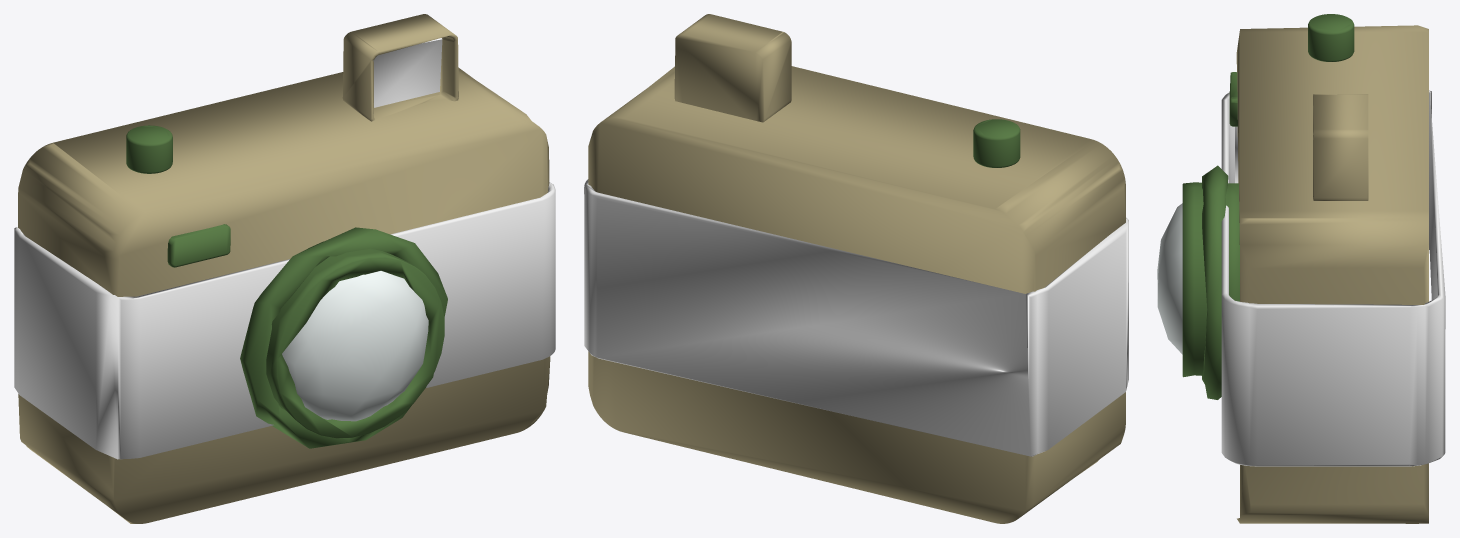
File: Camera.glb
3 renders of one model, left to right at view 1: azimuth 30°, elevation 25°; view 2: azimuth 150°, elevation 25°; view 3: azimuth 270°, elevation 25°, orthographic.
Parts seen in each view (by area): view 1: 3d66-Editable_Poly-21149881-003, 3d66-Editable_Poly-21149881-002, 3d66-Editable_Poly-21149881-001; view 2: 3d66-Editable_Poly-21149881-003, 3d66-Editable_Poly-21149881-002; view 3: 3d66-Editable_Poly-21149881-003, 3d66-Editable_Poly-21149881-002, 3d66-Editable_Poly-21149881-001.
Part boxes in pixels (<box>): 3d66-Editable_Poly-21149881-003: <box>14,14,555,523</box>; 3d66-Editable_Poly-21149881-002: <box>126,125,447,448</box>; 3d66-Editable_Poly-21149881-001: <box>282,271,428,421</box>; 3d66-Editable_Poly-21149881-003: <box>584,14,1128,523</box>; 3d66-Editable_Poly-21149881-002: <box>973,119,1020,167</box>; 3d66-Editable_Poly-21149881-003: <box>1221,25,1445,523</box>; 3d66-Editable_Poly-21149881-002: <box>1182,14,1354,399</box>; 3d66-Editable_Poly-21149881-001: <box>1157,203,1182,354</box>.
Bounding box in the file's own units: 0.7428 × 0.5949 × 0.4096.
